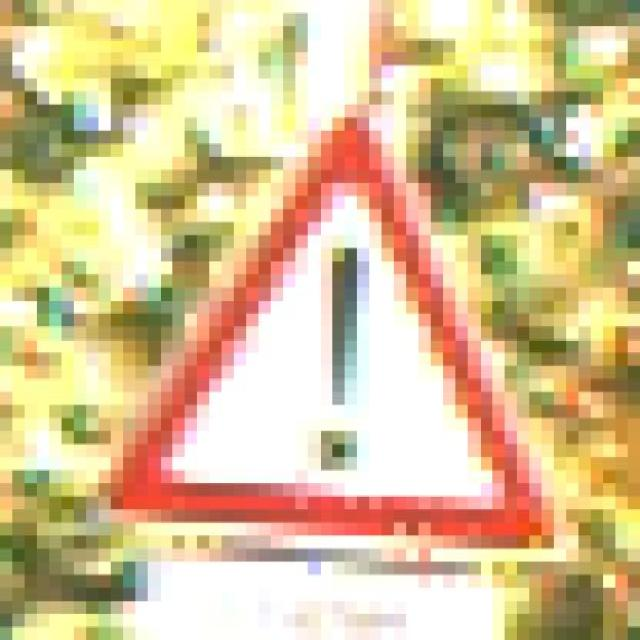Attention Please-: (86, 104, 554, 562)
